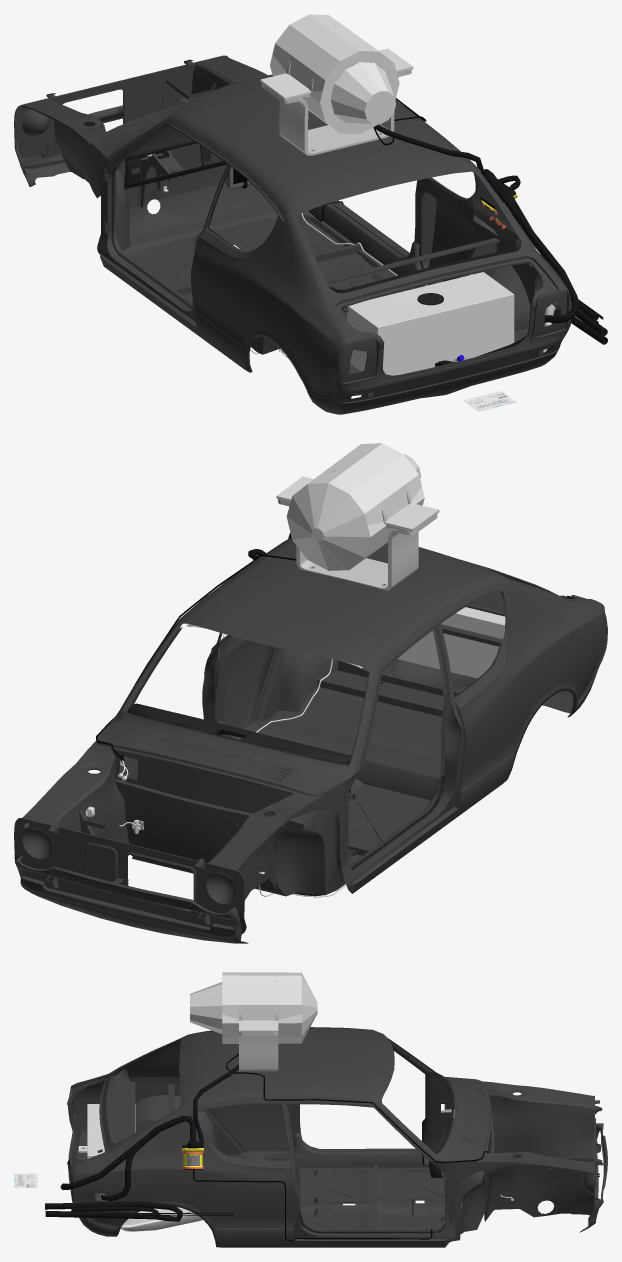
The model's file is jetturbine.fbx.
3 renders of one model, top to bottom at view 1: azimuth 30°, elevation 25°; view 2: azimuth 150°, elevation 25°; view 3: azimuth 270°, elevation 25°, orthographic. The views are drawn at different scales.
Parts seen in each view (by area): view 1: datsun_body, 60L Tank, coll, bracket, dashboard, waterpump_lineincustom, waterpump_lineout, waterpump_linein_off; view 2: datsun_body, coll, 60L Tank, bracket, dashboard, datsun_cowl_parts; view 3: datsun_body, coll, dashboard, bracket, waterpump_linein_off, waterpump_lineincustom, fuel_tank, 60L Tank, waterpump_lineout_off, controller_cable_connect, waterpump_linein, waterpump (+3 smaller).
Part boxes in pixels (x1=…): datsun_body: x1=14, y1=55, x2=571, y2=414; 60L Tank: x1=347, y1=272, x2=514, y2=375; coll: x1=260, y1=14, x2=413, y2=134; bracket: x1=262, y1=70, x2=411, y2=155; dashboard: x1=124, y1=127, x2=226, y2=189; waterpump_lineincustom: x1=434, y1=169, x2=580, y2=366; waterpump_lineout: x1=375, y1=124, x2=520, y2=190; waterpump_linein_off: x1=571, y1=304, x2=607, y2=344; datsun_body: x1=14, y1=537, x2=607, y2=943; coll: x1=276, y1=443, x2=439, y2=570; 60L Tank: x1=397, y1=607, x2=505, y2=678; bracket: x1=278, y1=500, x2=437, y2=590; dashboard: x1=128, y1=703, x2=350, y2=793; datsun_cowl_parts: x1=85, y1=623, x2=363, y2=897; datsun_body: x1=67, y1=1027, x2=607, y2=1247; coll: x1=190, y1=972, x2=317, y2=1043; dashboard: x1=422, y1=1072, x2=454, y2=1177; bracket: x1=239, y1=1033, x2=278, y2=1071; waterpump_linein_off: x1=45, y1=1201, x2=182, y2=1221; waterpump_lineincustom: x1=60, y1=1116, x2=189, y2=1189; fuel_tank: x1=120, y1=1207, x2=202, y2=1231; 60L Tank: x1=78, y1=1104, x2=135, y2=1158; waterpump_lineout_off: x1=71, y1=1206, x2=159, y2=1219; controller_cable_connect: x1=226, y1=1054, x2=488, y2=1162; waterpump_linein: x1=100, y1=1116, x2=195, y2=1201; waterpump: x1=182, y1=1134, x2=203, y2=1169.
Size of the model in its own units: 161 by 169 by 389.
